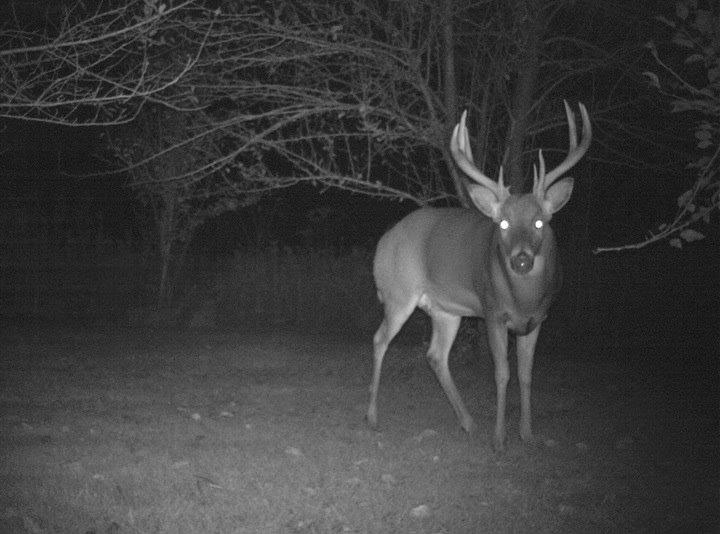deer: (325, 93, 657, 461)
